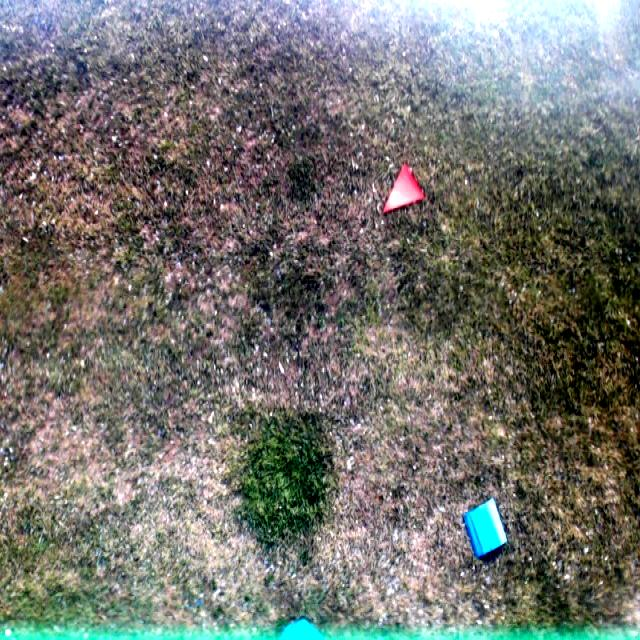blue_square: (462, 497, 505, 559)
red_triangle: (384, 163, 426, 220)
